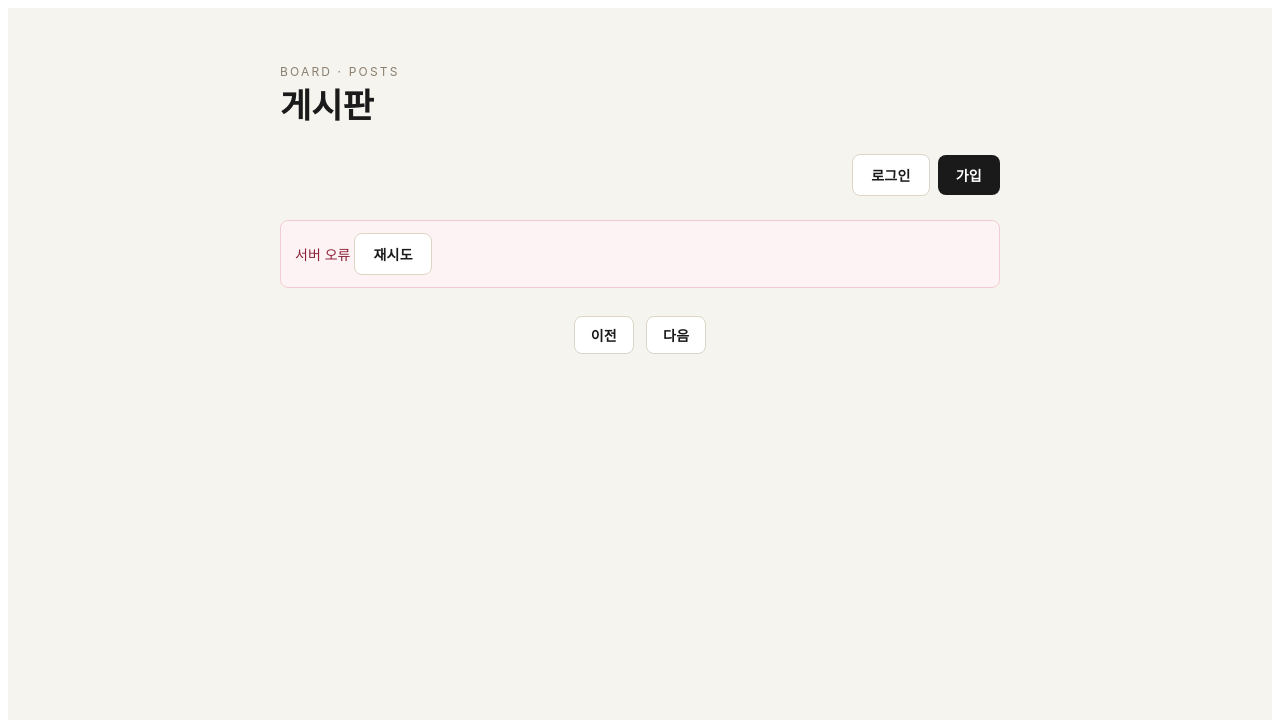
Test case: PostListPage › 500_응답이면_에러_배너와_재시도_버튼이_뜬다
Expected: the text "서버 오류" is shown, x1=295 y1=246 x2=350 y2=263
Click the button "재시도": (393, 254) x1=354 y1=233 x2=432 y2=275
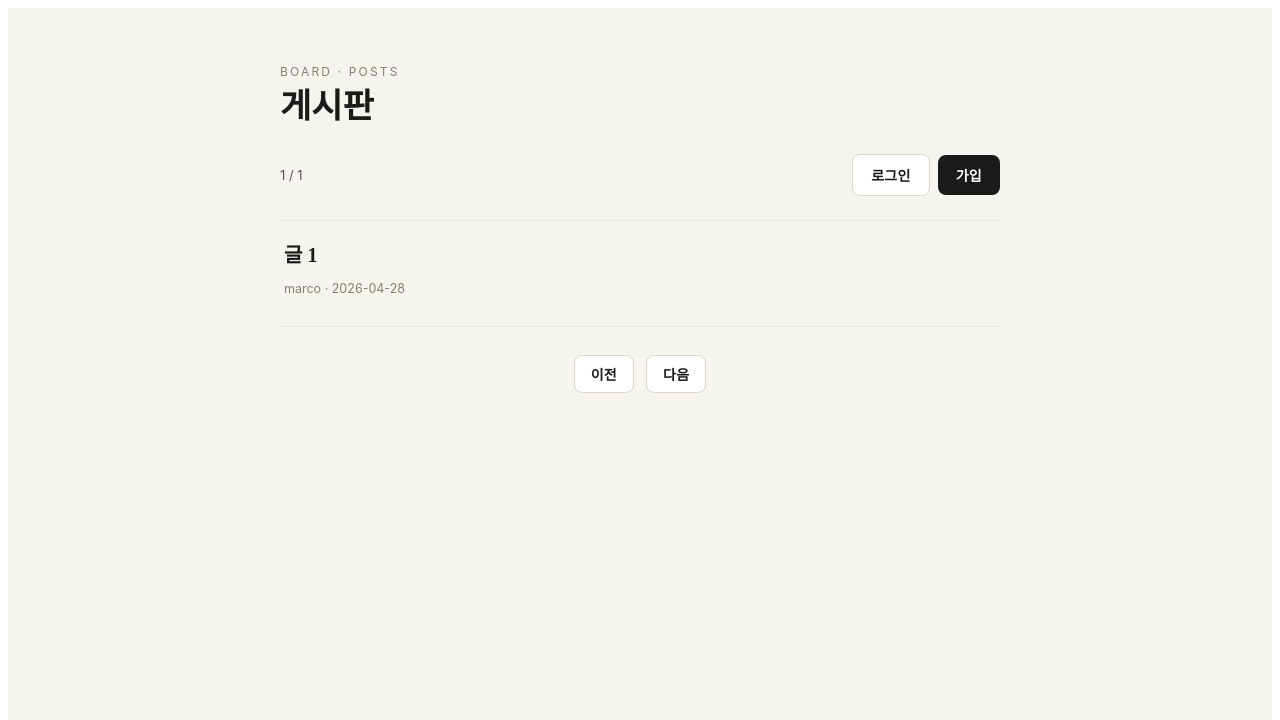
Expected: the text "글 1" is shown, x1=284 y1=244 x2=317 y2=266
